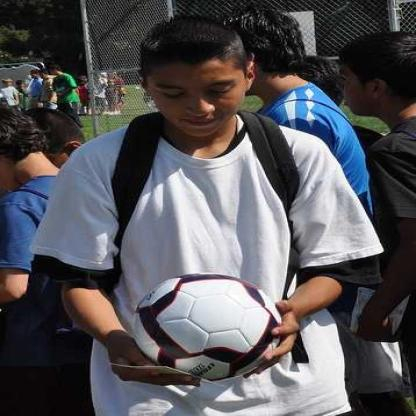ball: (132, 274, 286, 382)
